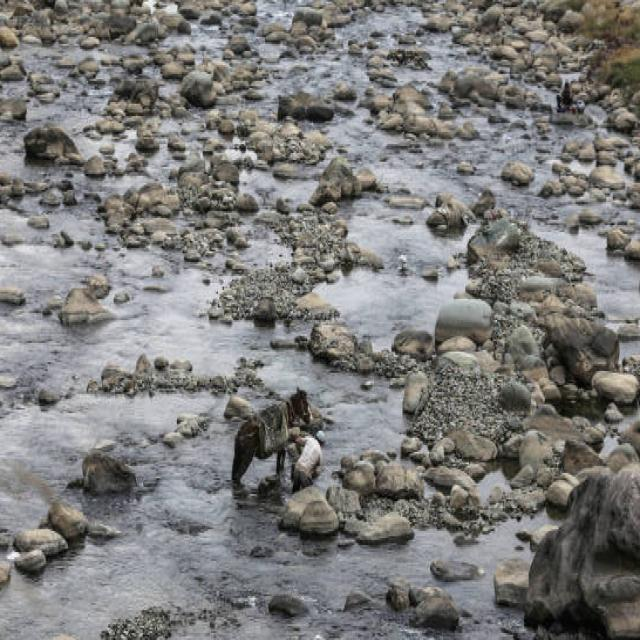civilian: (291, 431, 321, 491)
